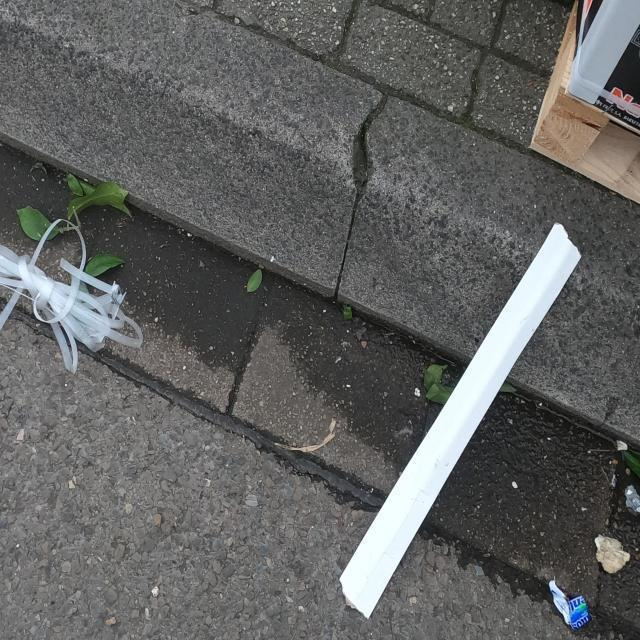Plastic: (547, 577, 591, 631)
